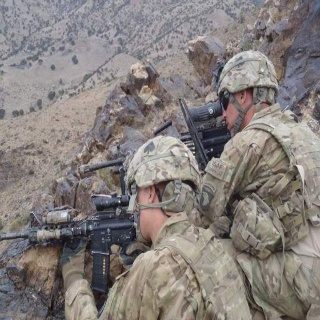rifle: (1, 193, 138, 295)
